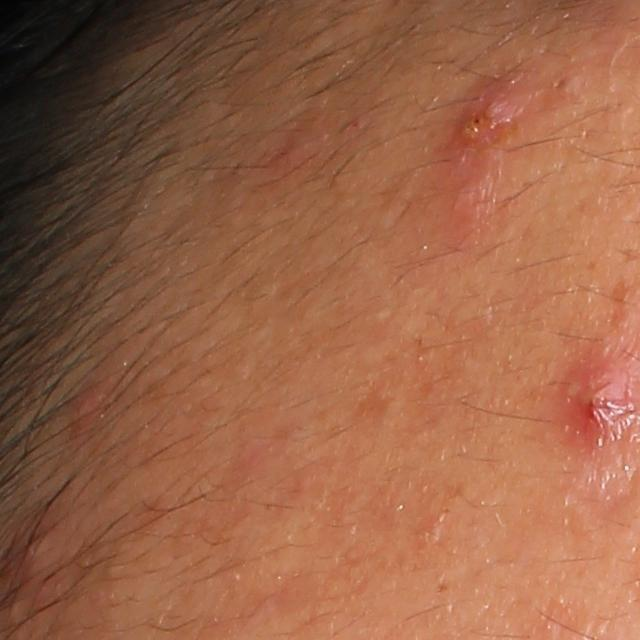papule: (453, 93, 510, 147), (439, 177, 495, 230), (13, 524, 66, 573), (66, 377, 112, 433)
